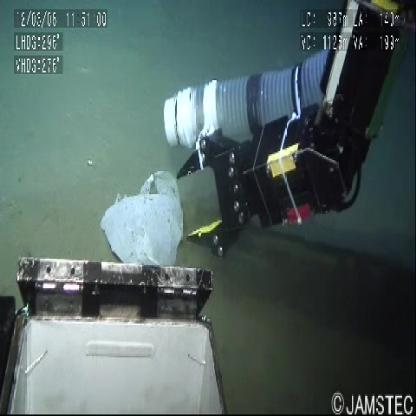Rov: (157, 1, 409, 259), (0, 252, 237, 416)
Rác: (98, 156, 186, 264)
